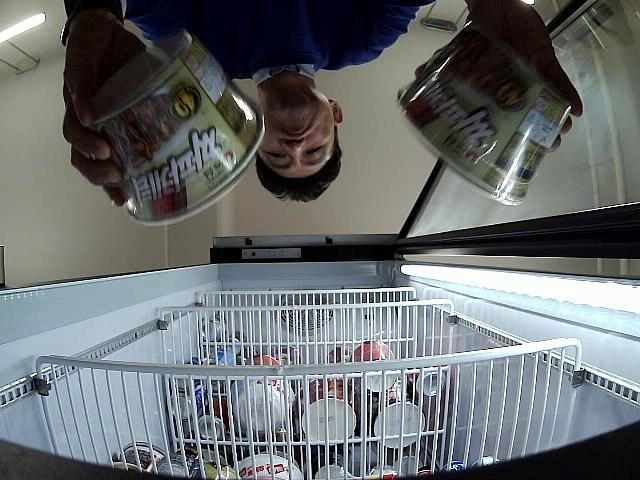00_hand: (467, 0, 583, 148), (63, 39, 148, 207)
03_chapagetti_L: (92, 29, 265, 226), (398, 23, 572, 205)
